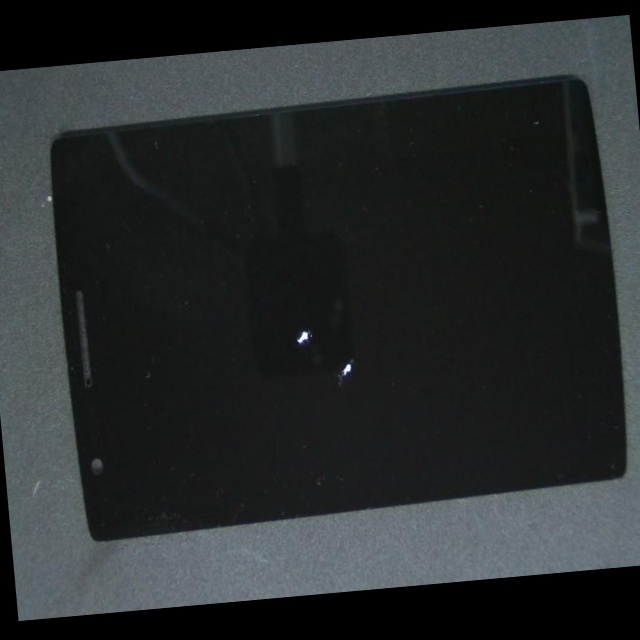stain: (175, 161, 533, 518), (155, 157, 467, 468)
